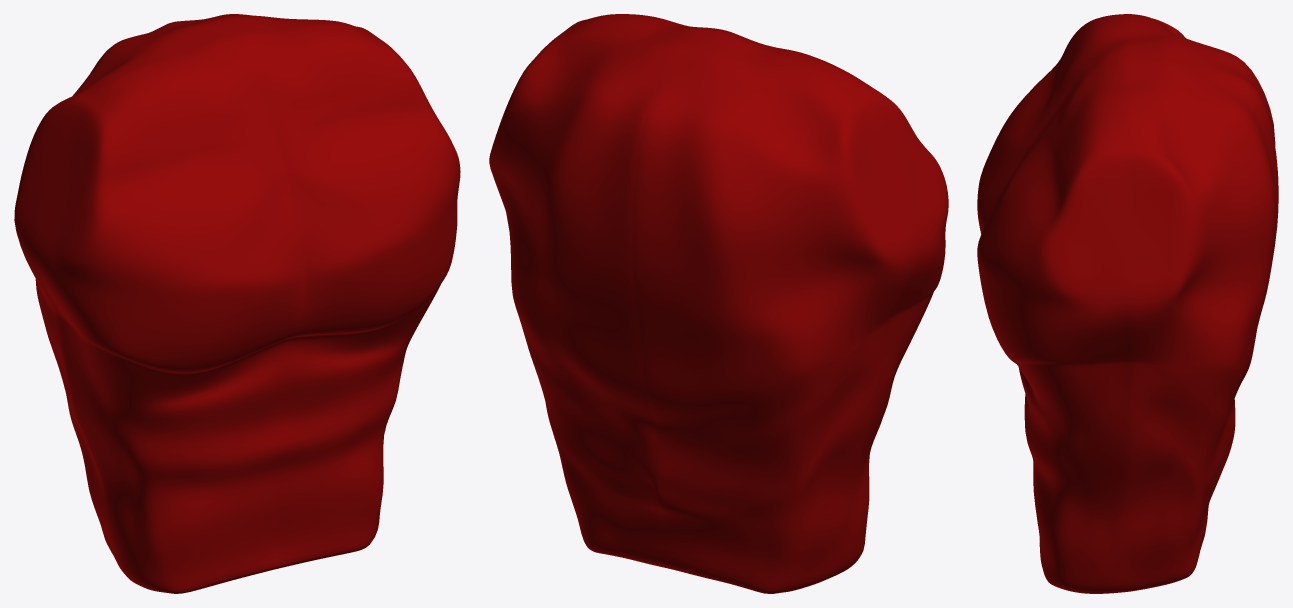
File: Pecho.fbx
3 renders of one model, left to right at view 1: azimuth 30°, elevation 25°; view 2: azimuth 150°, elevation 25°; view 3: azimuth 270°, elevation 25°, orthographic. The views are drawn at different scales.
Visible parts, largest first — view 1: Pecho; view 2: Pecho; view 3: Pecho.
Part boxes in pixels (x1,y1,x2,y2): Pecho: (14,14,460,593); Pecho: (489,14,948,593); Pecho: (977,14,1278,593).
Size of the model in its own units: 1379 by 1687 by 939.
